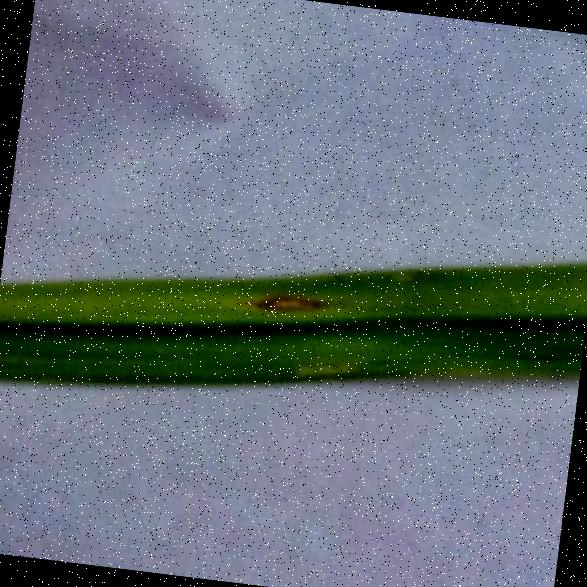Leaf_smut: (232, 271, 326, 340)
